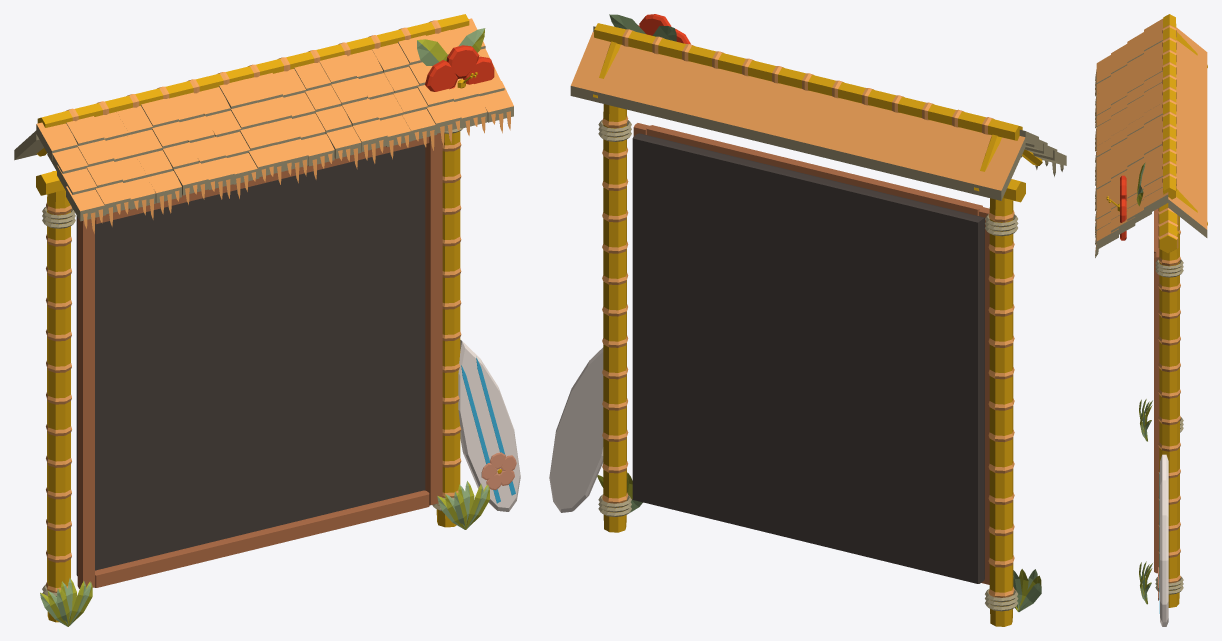
Rendered from circuitBoard.glb.
3 views of the same model, side by side, from view 1: azimuth 30°, elevation 25°; view 2: azimuth 150°, elevation 25°; view 3: azimuth 270°, elevation 25° (orthographic). The views are drawn at different scales.
Visible parts, largest first — view 1: circuitBoard; view 2: circuitBoard; view 3: circuitBoard.
Part boxes in pixels (x1=…): circuitBoard: x1=14, y1=14, x2=520, y2=626; circuitBoard: x1=549, y1=14, x2=1066, y2=626; circuitBoard: x1=1095, y1=14, x2=1207, y2=626.
Bounding box in the file's own units: 7.25 × 7.2 × 1.74.
1 material, 1 textured.
